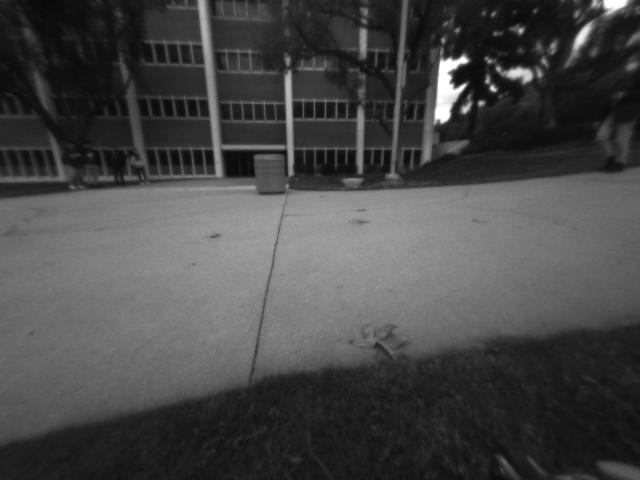trashcan: (251, 147, 287, 196)
